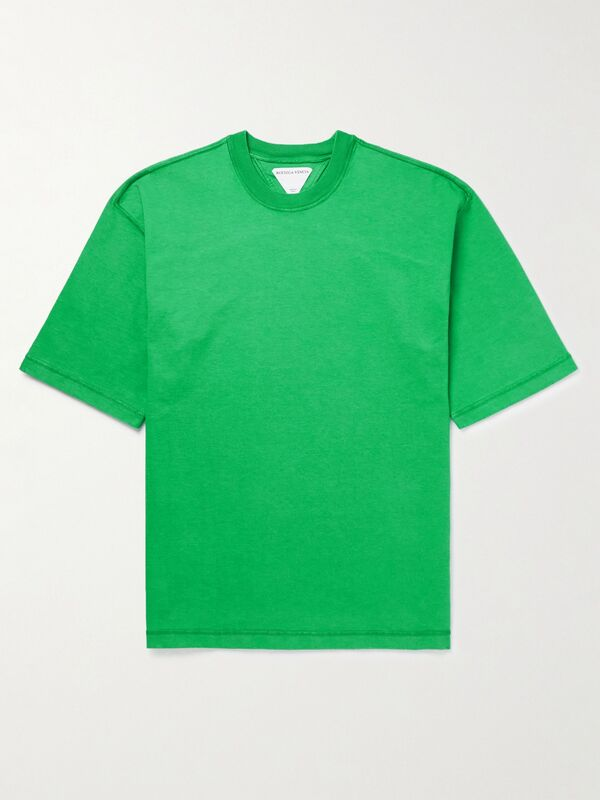tshirt: (15, 122, 583, 664)
